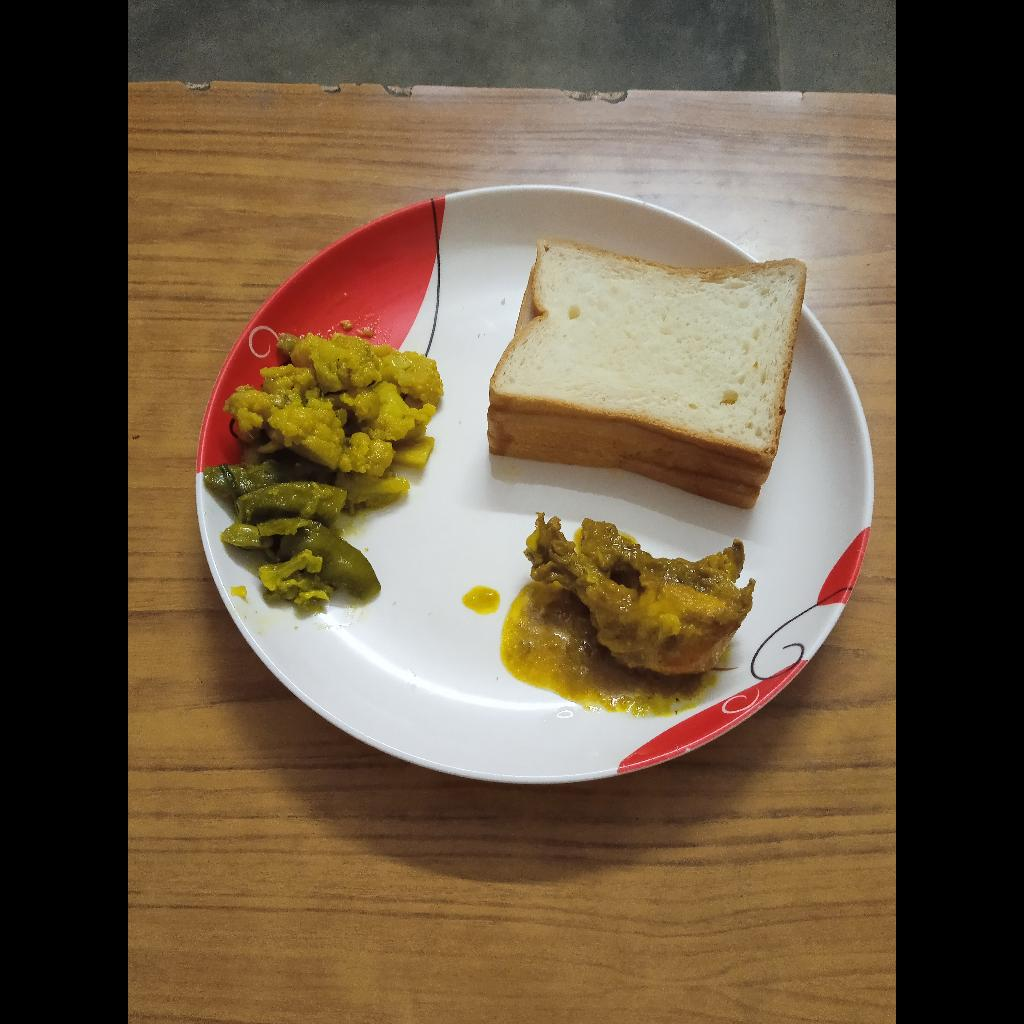bread: (489, 239, 808, 506)
cauliflower: (231, 337, 446, 471)
chicken: (532, 523, 754, 681)
shim: (205, 462, 380, 612)
